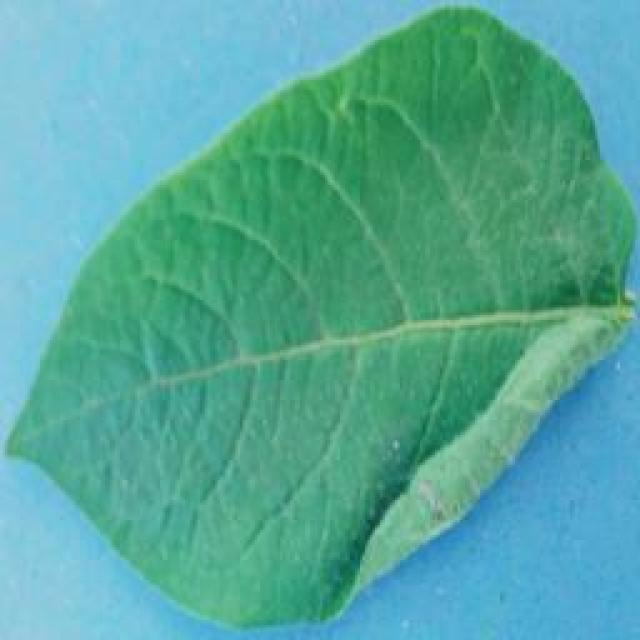Potato_Healthy: (7, 3, 627, 626)
